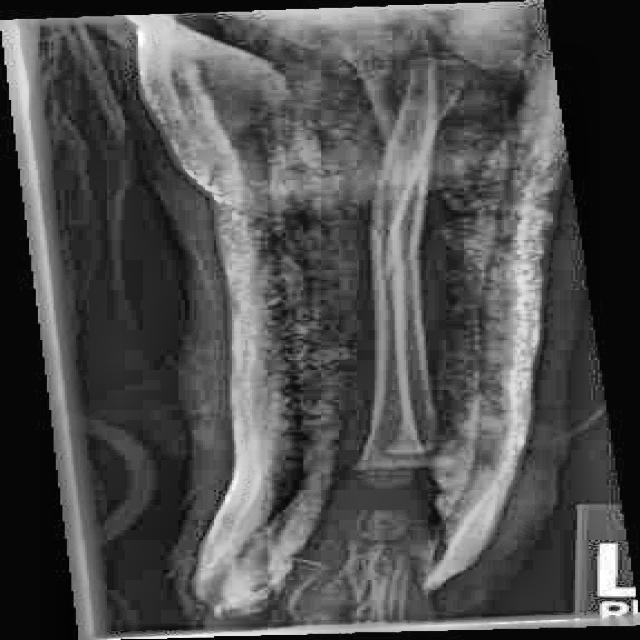forearm fracture: (351, 204, 400, 242)
